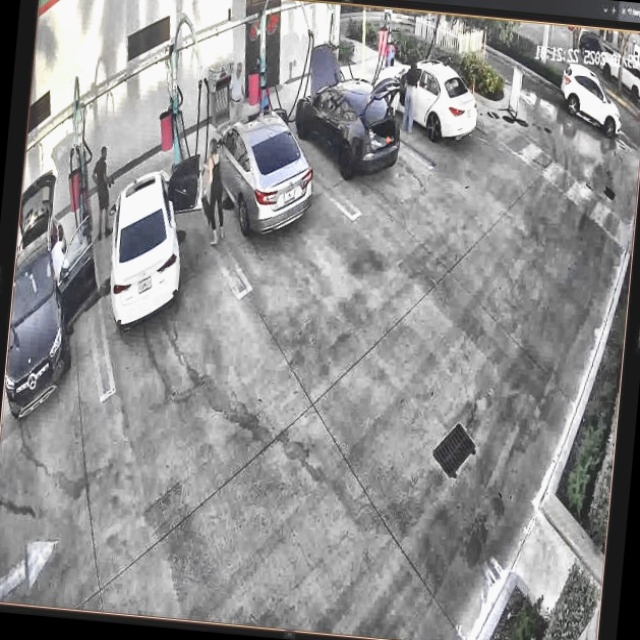Car: (101, 142, 203, 337), (291, 45, 410, 186), (207, 104, 314, 243), (371, 54, 475, 151)
